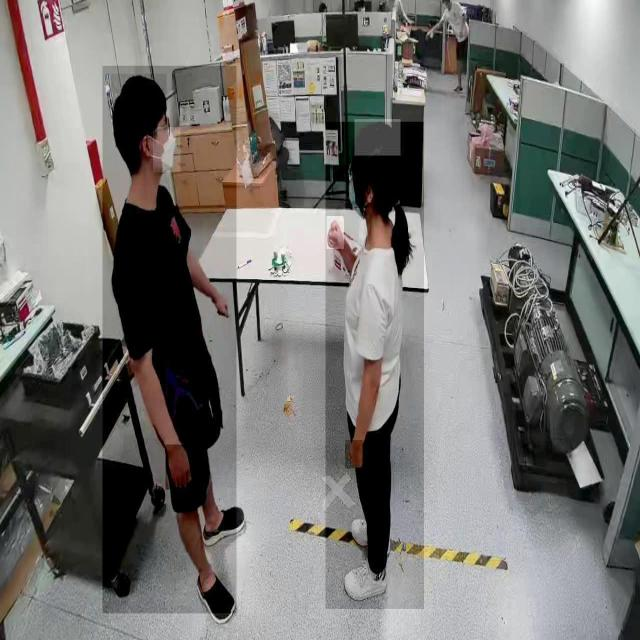face_mask: (153, 127, 181, 173), (346, 164, 368, 208)
hand_noglove: (165, 444, 193, 490), (326, 216, 344, 250), (345, 440, 363, 469), (214, 293, 231, 319)
head_nohelmet: (111, 74, 167, 110), (355, 119, 401, 157)
person: (103, 66, 237, 614), (326, 122, 424, 610)
shoes: (192, 566, 236, 626), (339, 558, 392, 604), (201, 503, 245, 557), (348, 515, 392, 553)
